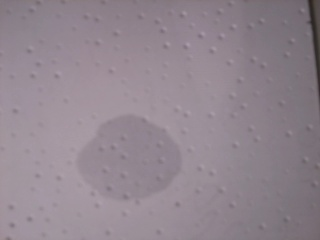Water_detected: (80, 128, 166, 200)
